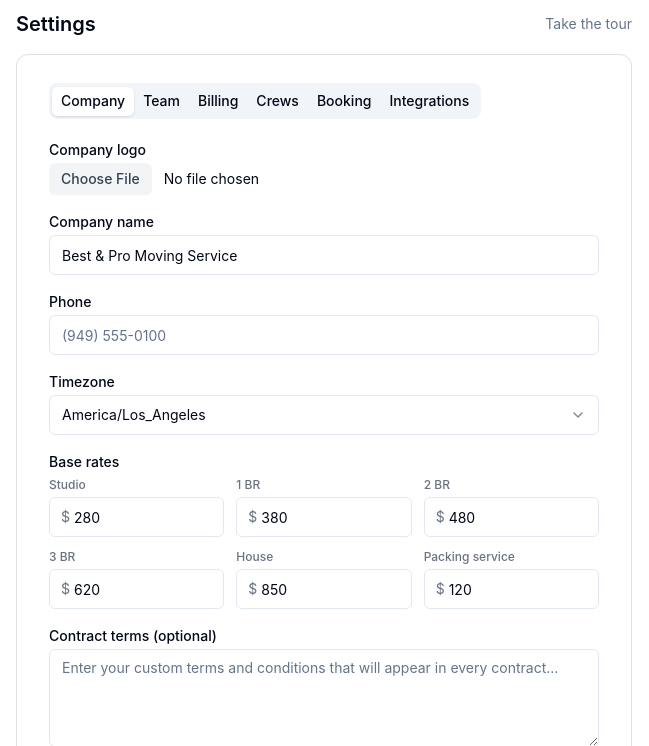
it: SettingsPage › AC3 — can invite a new team member
The image size is (649, 746).
Click the tab "Team" at (162, 101), box [134,86,189,116]
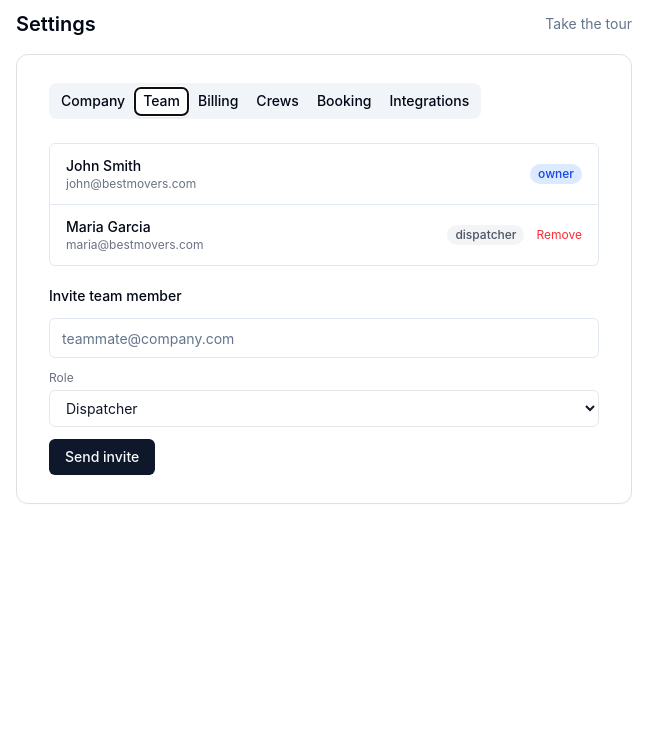
Check: the field with placeholder "teammate@company.com" is shown
Type "new@team.com" into the field with placeholder "teammate@company.com" at (324, 338), box [49,318,599,358]
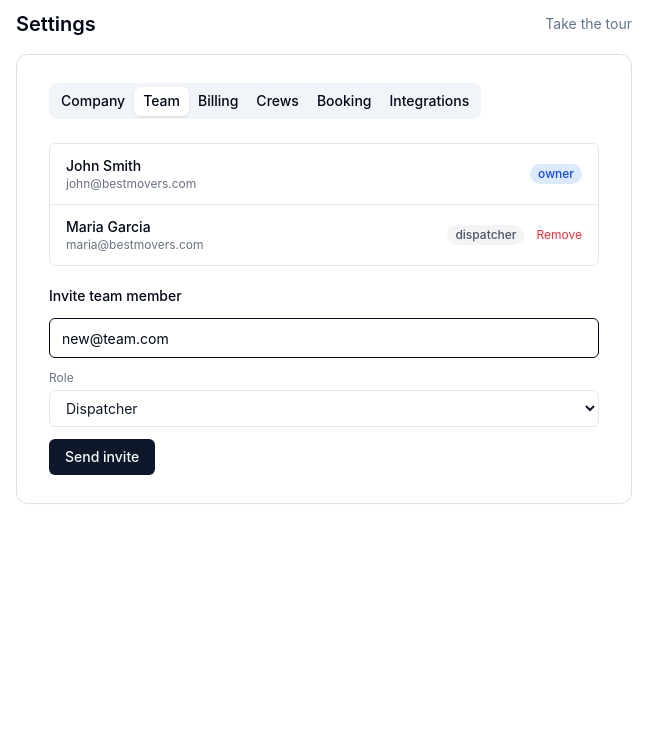
Click the button "Send invite" at (102, 457), box [49,439,155,475]
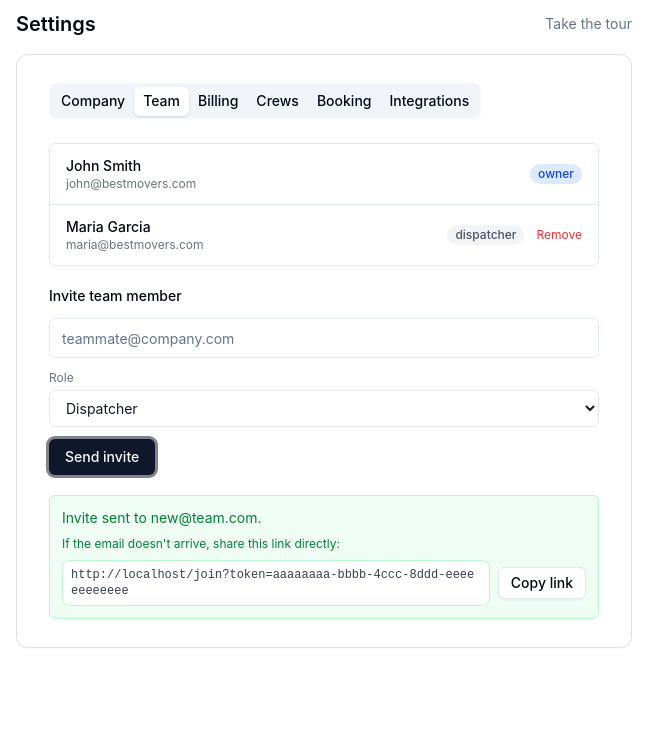
Check: the text "Invite sent to new@team.com." is shown, box [62,509,262,526]
